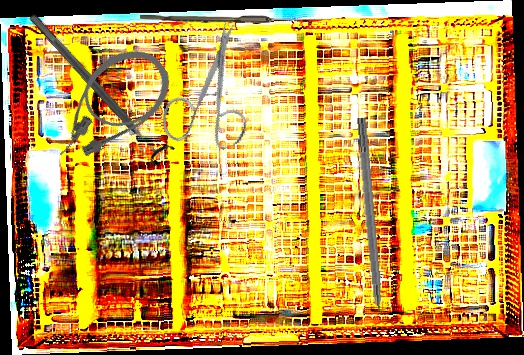Cannula: (31, 35, 184, 175)
Fixation Ring: (21, 5, 176, 169)
Hook Surgical: (354, 117, 386, 336)
Iris Scissors: (133, 18, 281, 169)
Surgical Spoon: (140, 15, 314, 23)
